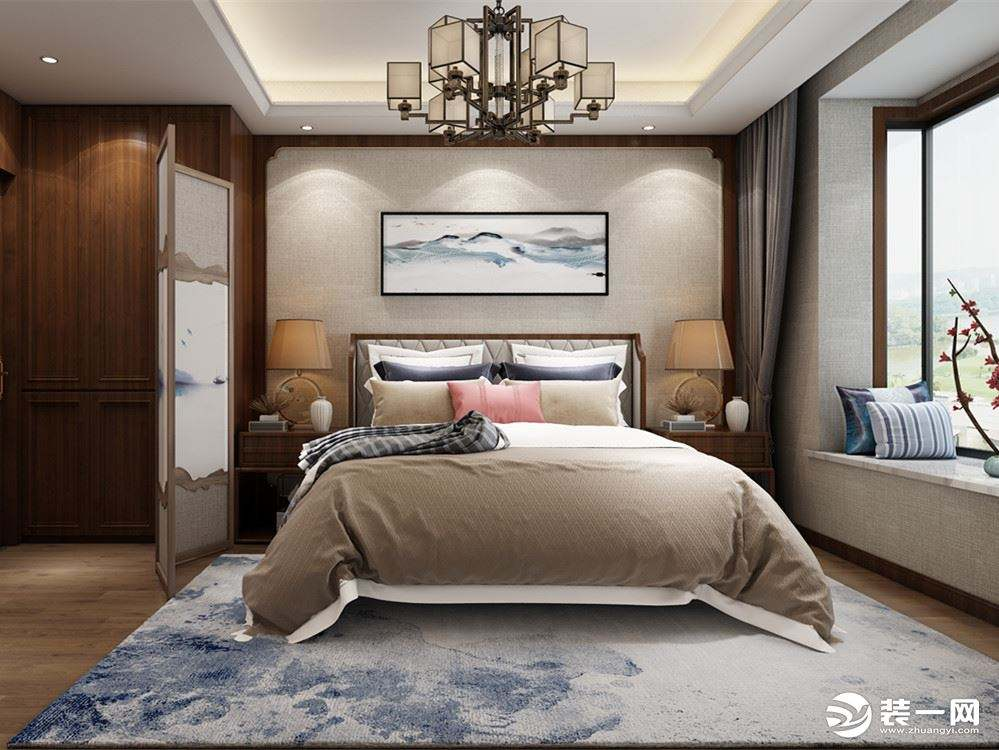床: (284, 420, 811, 637)
枕头: (364, 341, 629, 436), (840, 383, 958, 463)
灯: (404, 3, 620, 140), (667, 317, 735, 428), (263, 317, 330, 427), (32, 51, 62, 71), (640, 121, 662, 136), (295, 122, 317, 136)
